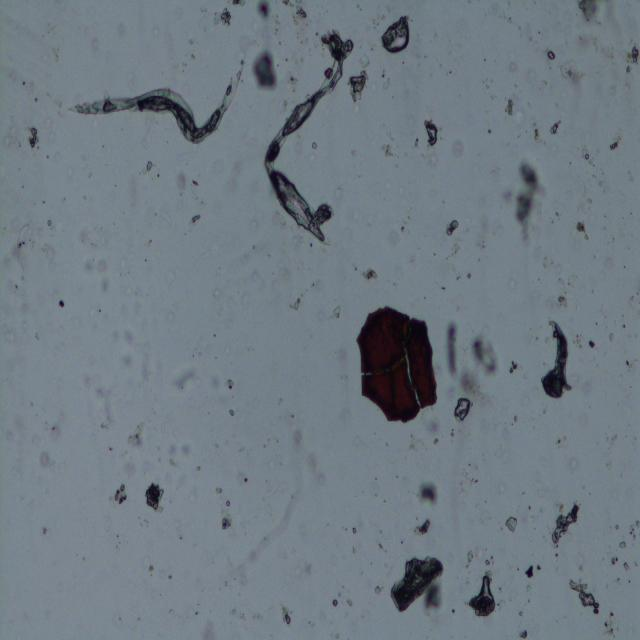Background material: (391, 554, 446, 615), (514, 157, 544, 246), (466, 568, 496, 618), (550, 498, 582, 542), (568, 577, 600, 616), (472, 330, 499, 375), (382, 17, 412, 57), (253, 54, 279, 92), (12, 222, 34, 265), (446, 319, 462, 378), (281, 0, 310, 27), (347, 68, 369, 102), (144, 482, 166, 514), (416, 477, 440, 505), (222, 559, 248, 584), (173, 364, 197, 390), (308, 456, 328, 485), (560, 61, 583, 86), (249, 0, 273, 23), (575, 0, 599, 22), (461, 372, 481, 398), (2, 124, 22, 150), (423, 117, 440, 147), (452, 397, 472, 422), (128, 422, 148, 447), (602, 609, 618, 640), (79, 226, 98, 251), (262, 476, 280, 501), (211, 8, 233, 27), (408, 434, 427, 453), (185, 212, 202, 232), (202, 619, 218, 640), (122, 350, 138, 370), (280, 604, 294, 626), (444, 242, 460, 261), (414, 518, 430, 537), (290, 424, 302, 449), (114, 485, 128, 506), (576, 220, 590, 241), (504, 515, 519, 534), (451, 138, 465, 158), (28, 127, 40, 150), (625, 46, 640, 64), (424, 150, 438, 169), (42, 242, 56, 261), (166, 444, 178, 466), (554, 294, 570, 310), (83, 374, 100, 389), (625, 355, 639, 373), (221, 512, 235, 530), (372, 12, 386, 30), (42, 20, 56, 38), (503, 95, 515, 116), (166, 266, 178, 286), (464, 547, 476, 567), (605, 432, 620, 448), (293, 293, 305, 313), (39, 451, 52, 469), (582, 144, 593, 165), (361, 267, 376, 282), (80, 258, 96, 272), (445, 217, 457, 235), (140, 160, 154, 175), (287, 75, 299, 92), (52, 45, 62, 65), (574, 332, 585, 350), (608, 41, 618, 60), (103, 400, 113, 419), (508, 358, 519, 375), (381, 143, 394, 157), (428, 418, 440, 433), (334, 183, 344, 201), (97, 260, 109, 275), (550, 120, 562, 134), (566, 274, 578, 287), (542, 256, 554, 269), (555, 436, 568, 448), (610, 136, 622, 149), (100, 279, 111, 293), (177, 173, 186, 190), (273, 15, 281, 34), (181, 442, 191, 457), (577, 201, 587, 216), (230, 0, 246, 9), (95, 390, 108, 401), (524, 564, 534, 578), (333, 302, 341, 319), (533, 125, 541, 142), (152, 25, 162, 38), (306, 563, 315, 577), (349, 543, 359, 555), (146, 563, 154, 578), (360, 55, 370, 67), (474, 242, 487, 251), (227, 377, 236, 390), (386, 128, 395, 141), (101, 421, 114, 430), (41, 523, 49, 537), (605, 254, 612, 270), (518, 628, 528, 639), (344, 596, 354, 607), (252, 613, 264, 622), (196, 5, 208, 14), (627, 169, 635, 182), (629, 527, 637, 540), (617, 540, 627, 550), (383, 76, 390, 90), (546, 49, 554, 61), (52, 424, 60, 436), (214, 487, 223, 497), (351, 261, 359, 272), (213, 286, 220, 298), (168, 606, 175, 618), (610, 555, 618, 565), (623, 561, 631, 571), (557, 502, 565, 512), (509, 61, 517, 71), (90, 41, 98, 51), (432, 436, 440, 445), (238, 612, 246, 621), (311, 141, 319, 150), (513, 414, 519, 426), (228, 407, 235, 417), (456, 302, 462, 313), (450, 427, 456, 438), (331, 598, 339, 606), (190, 179, 198, 187), (186, 38, 194, 46), (507, 15, 514, 24), (144, 518, 150, 528), (609, 332, 615, 342), (376, 584, 382, 594), (224, 500, 232, 507), (588, 196, 594, 205), (414, 137, 419, 147), (471, 476, 478, 483), (352, 526, 358, 534), (626, 65, 632, 73), (484, 558, 490, 566), (356, 3, 362, 11), (350, 150, 356, 158), (80, 193, 86, 201), (282, 101, 288, 109), (635, 519, 640, 528), (544, 337, 551, 343), (59, 300, 65, 307), (526, 586, 532, 593), (231, 608, 237, 615), (589, 341, 595, 348), (484, 83, 490, 90), (136, 615, 142, 622), (614, 576, 620, 583), (599, 181, 605, 188), (377, 542, 383, 549), (486, 127, 493, 133), (190, 53, 196, 60), (401, 224, 405, 234), (195, 466, 201, 472), (213, 442, 219, 448), (518, 612, 524, 618), (520, 490, 526, 496), (537, 564, 543, 570), (542, 79, 548, 85), (12, 284, 18, 290), (496, 601, 500, 610), (403, 151, 409, 157), (222, 580, 228, 586), (607, 462, 613, 468), (380, 72, 386, 78), (32, 97, 39, 102), (630, 294, 634, 302), (459, 478, 463, 486), (432, 251, 437, 257), (441, 286, 447, 291), (384, 441, 390, 446), (44, 154, 50, 159), (283, 56, 288, 62), (148, 238, 153, 244), (527, 505, 532, 511), (557, 278, 563, 283), (454, 275, 461, 279), (452, 608, 456, 615), (490, 92, 494, 99), (556, 212, 560, 219), (36, 334, 40, 341), (48, 221, 52, 228), (615, 524, 619, 530), (275, 438, 279, 444), (395, 473, 399, 479), (498, 586, 502, 592), (244, 477, 248, 483), (179, 535, 183, 541), (290, 414, 296, 418), (603, 314, 607, 320), (374, 492, 378, 498), (278, 398, 282, 404), (88, 172, 92, 178), (603, 225, 607, 231), (536, 336, 540, 342), (434, 32, 438, 38), (468, 273, 471, 280), (262, 444, 266, 449), (588, 491, 593, 495), (168, 575, 172, 580), (636, 291, 640, 296), (118, 616, 122, 621), (591, 289, 595, 294), (370, 46, 374, 51), (602, 190, 606, 195), (554, 544, 559, 548), (622, 324, 626, 329), (156, 174, 160, 179), (503, 14, 507, 19), (399, 540, 404, 544), (360, 615, 364, 620), (195, 611, 199, 616), (278, 41, 282, 46), (213, 332, 216, 338), (534, 121, 537, 127), (492, 555, 494, 564), (491, 77, 494, 83), (109, 447, 113, 451), (588, 405, 592, 409), (338, 593, 342, 597), (21, 184, 25, 188), (395, 164, 399, 168), (383, 499, 387, 503), (568, 160, 572, 164), (516, 567, 520, 571), (483, 58, 487, 62), (42, 200, 46, 204), (592, 174, 596, 178), (517, 26, 521, 30), (537, 30, 541, 34), (316, 31, 320, 35), (593, 254, 596, 259), (336, 634, 339, 639), (467, 0, 472, 3), (628, 579, 631, 584), (550, 64, 552, 71), (449, 70, 452, 74), (543, 362, 546, 366), (196, 603, 200, 606), (144, 259, 148, 262), (380, 530, 384, 533), (469, 462, 471, 467), (636, 562, 638, 567), (596, 321, 598, 326), (613, 236, 615, 241), (424, 54, 426, 59), (440, 63, 442, 68), (308, 621, 311, 624), (233, 578, 236, 581), (384, 550, 387, 553), (102, 145, 105, 148), (593, 163, 595, 167), (268, 438, 270, 442), (485, 500, 487, 504), (622, 314, 624, 318), (604, 214, 606, 218), (614, 320, 616, 324), (556, 553, 558, 557), (528, 599, 530, 603), (630, 212, 632, 216), (376, 477, 378, 480), (392, 96, 394, 99), (403, 61, 405, 64), (624, 265, 626, 268), (534, 527, 536, 530), (630, 386, 632, 388), (602, 173, 604, 175)
Cellulose filter fibre: (262, 30, 354, 245), (60, 62, 244, 142), (539, 321, 574, 399)
Fragment: (356, 304, 438, 427)
